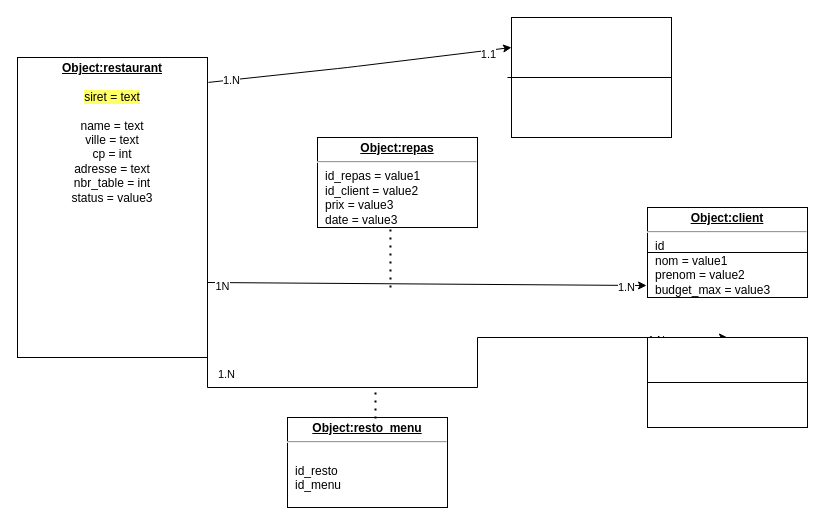
Some shapes in this 826 by 525 pixel diagram are drawn without their labels. Here are the shapes that lost their labels. From the top down, the centre of each, then its label:
At [591,77]: "Object:salarié id nom = value1 prenon = value2 salaire = value3".
At [727,382]: "Object:menu id nom = value2 prix = value3".
